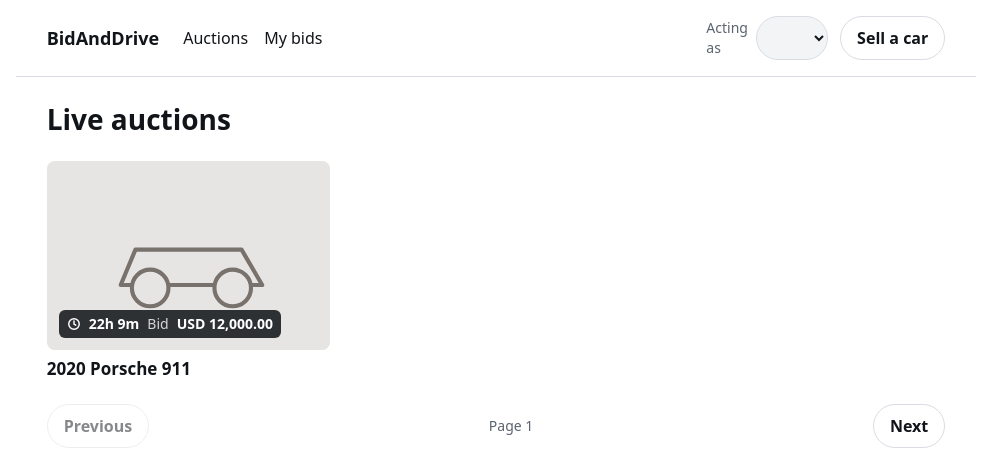
Test case: AuctionsView › after a failed Next, the page on screen stays put and Next again asks for the page after it
What coordinates should you click on to do the following:
click the button "Next"
I would click on:
 (909, 426)
Its box is [873,404,945,448].
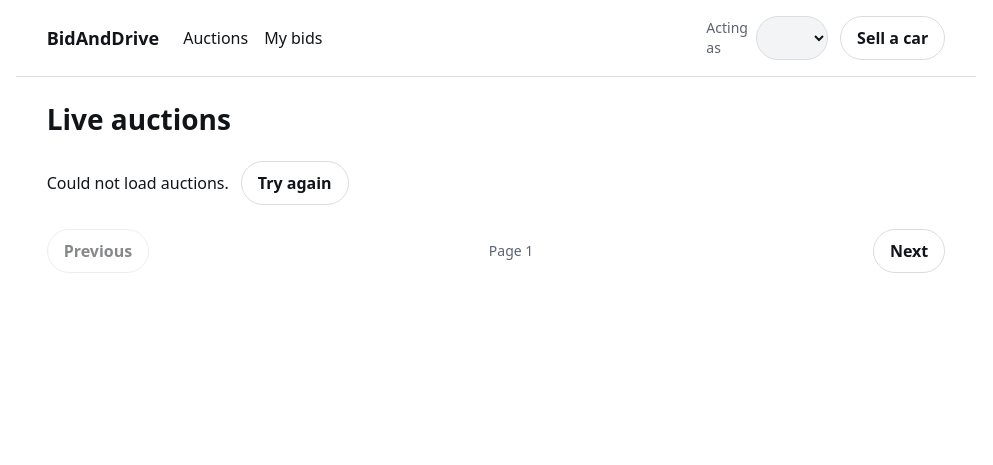
Check: the text "Page 1" is shown, box [489,241,533,261]
Check: the message "Could not load auctions. Try again" is shown, box [47,161,349,205]
What coordinates should you click on to do the following:
click the button "Next"
I would click on:
 (909, 251)
Its box is [873,229,945,273].
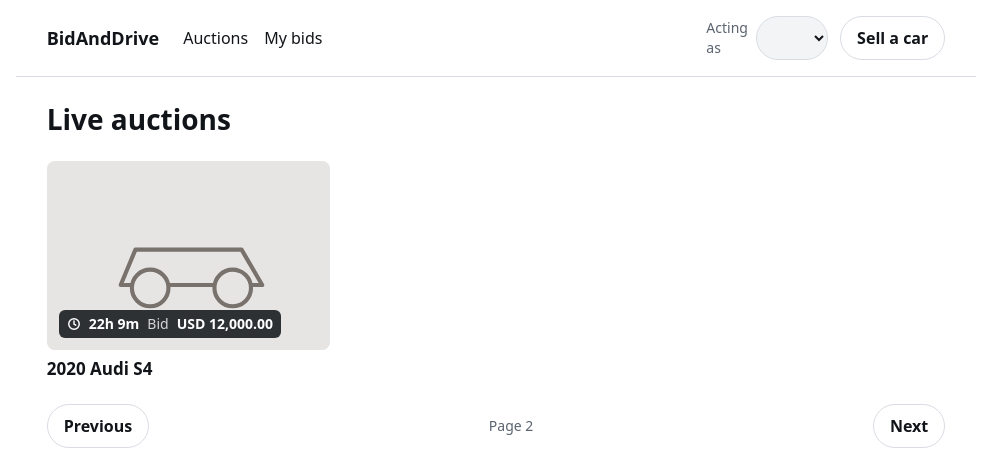
Check: the heading "2020 Audi S4" is shown, box [47,357,152,380]
